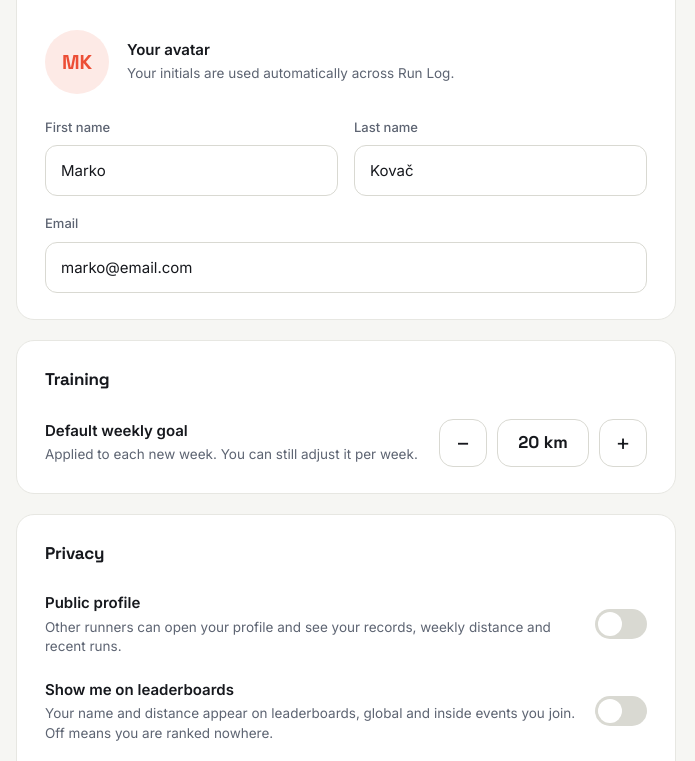
Test: Settings profile card (RUN-37) › rejects an invalid email with an inline message and persists nothing (AC3)
Step 1. Replace the text in the field labelled "Email" with "not-an-email" → (346, 267), box [45,242,647,293]
(page scrolled)
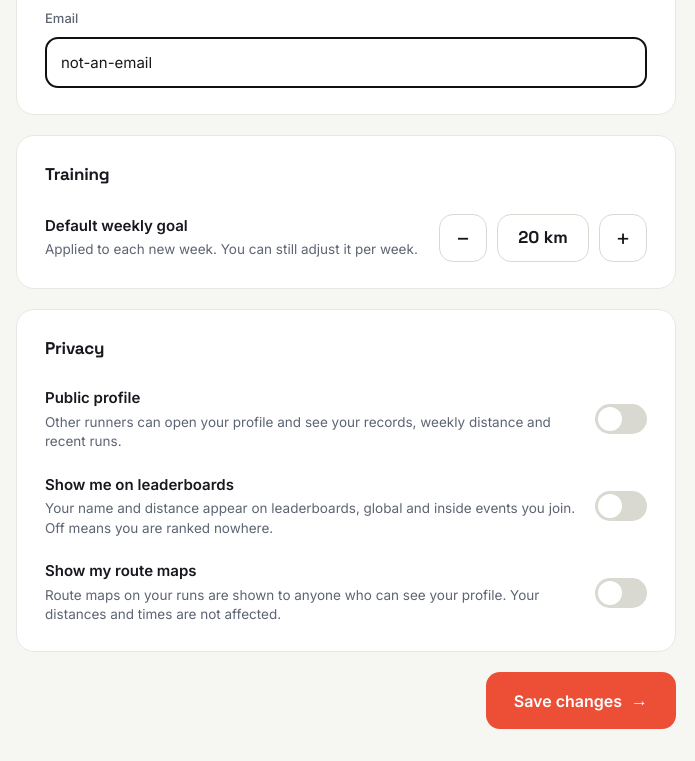
Step 2. Click the button "Save changes →" → (581, 701), box [486,672,676,729]
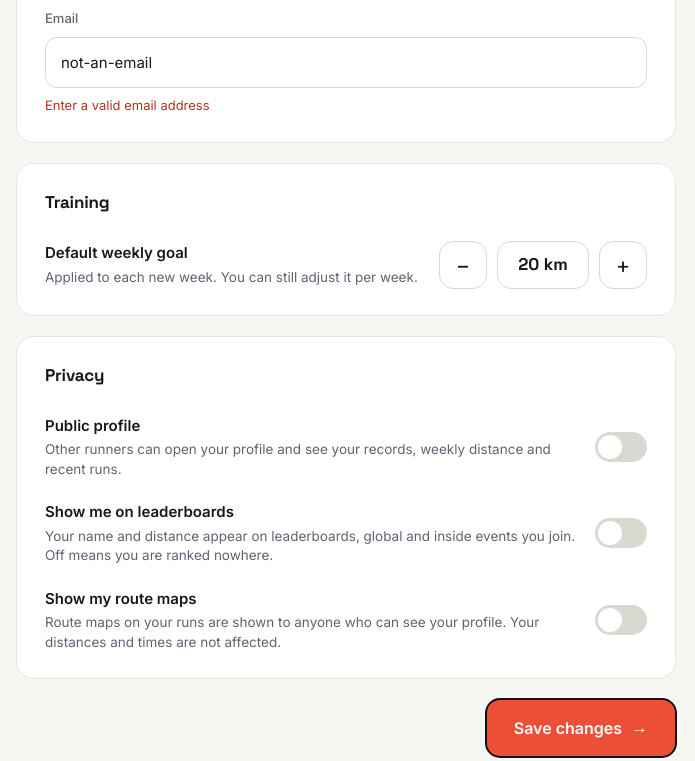
Check: the message reads "Enter a valid email address", box [45,97,210,113]
